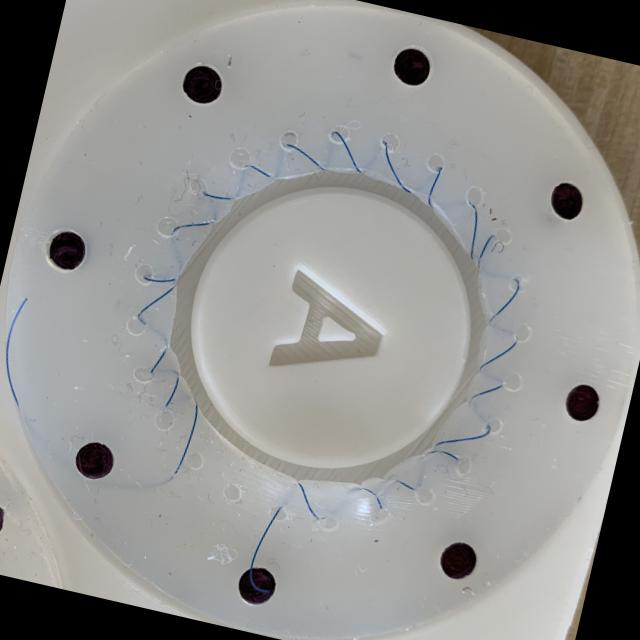suture: (3, 297, 27, 409), (249, 509, 279, 593), (173, 404, 197, 474), (383, 141, 410, 193), (330, 130, 362, 172), (489, 278, 519, 322), (434, 424, 490, 446), (478, 341, 515, 370), (297, 482, 325, 520), (138, 287, 173, 316), (285, 144, 324, 170), (426, 167, 442, 206), (478, 234, 495, 268), (358, 488, 381, 509), (470, 385, 502, 399), (166, 375, 179, 406), (150, 350, 165, 373), (470, 204, 476, 260), (172, 223, 208, 232), (427, 450, 458, 460), (250, 165, 269, 176), (203, 192, 231, 199), (143, 276, 175, 282), (397, 481, 414, 490)
